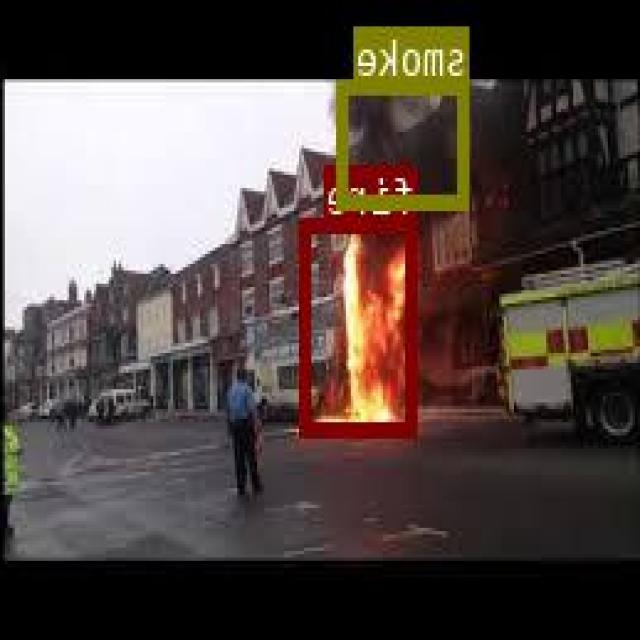fire: (303, 217, 418, 434)
smoke: (339, 78, 471, 208)
